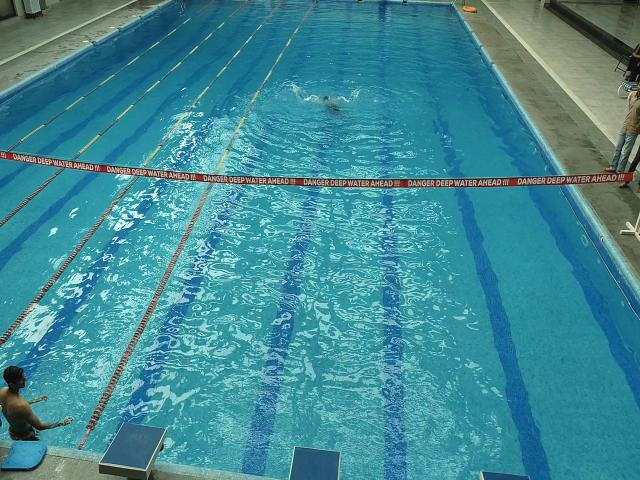drowning: (312, 86, 348, 117)
out of water: (604, 79, 640, 175)
swimming: (0, 364, 72, 435)
